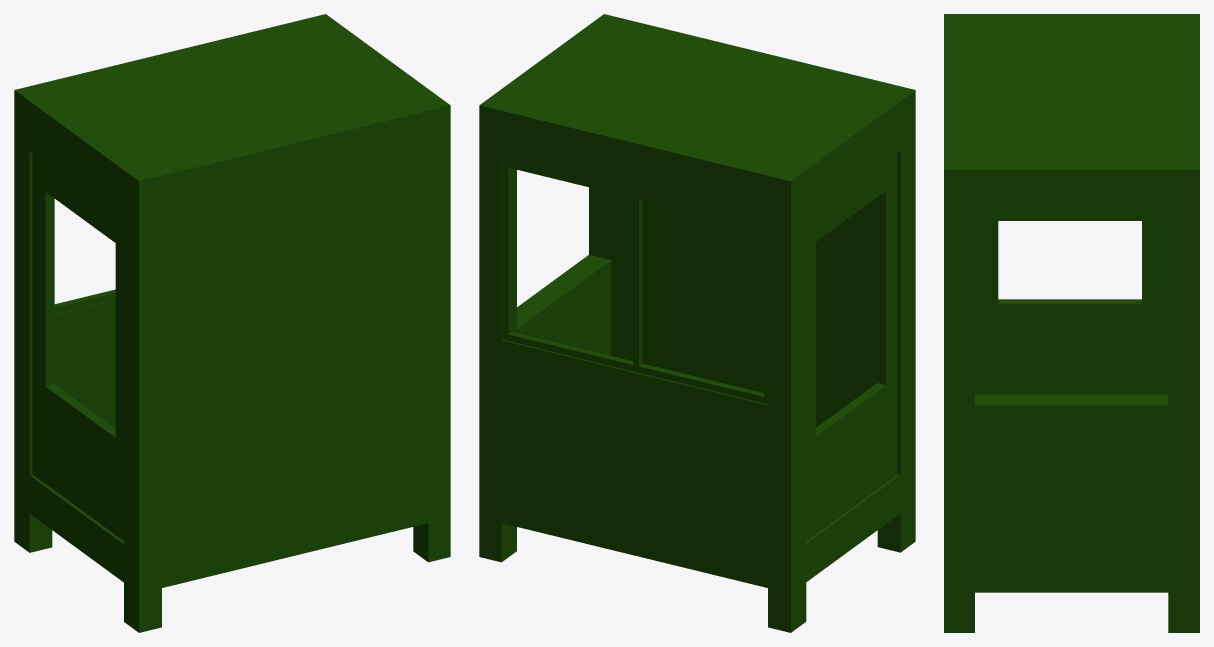
Rendered from MarshallRoom.fbx.
3 renders of one model, left to right at view 1: azimuth 30°, elevation 25°; view 2: azimuth 150°, elevation 25°; view 3: azimuth 270°, elevation 25°, orthographic. The views are drawn at different scales.
Visible parts, largest first — view 1: MarshallRoom; view 2: MarshallRoom; view 3: MarshallRoom.
Boxes of the visible parts, box(x1,y1,x2,y2) form: MarshallRoom: box(14, 14, 450, 632); MarshallRoom: box(479, 14, 915, 632); MarshallRoom: box(944, 14, 1199, 632).
Bounding box in the file's own units: 0.9815 × 1.36 × 0.6809.
